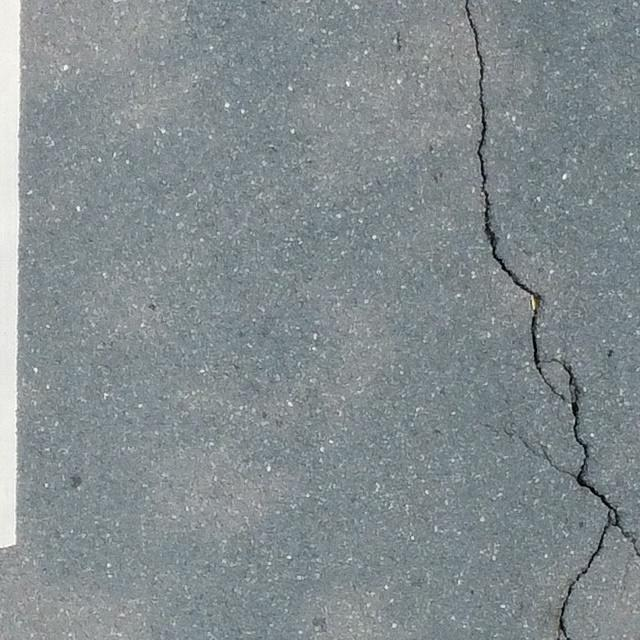LongitudinalCrack: (463, 2, 640, 640)
